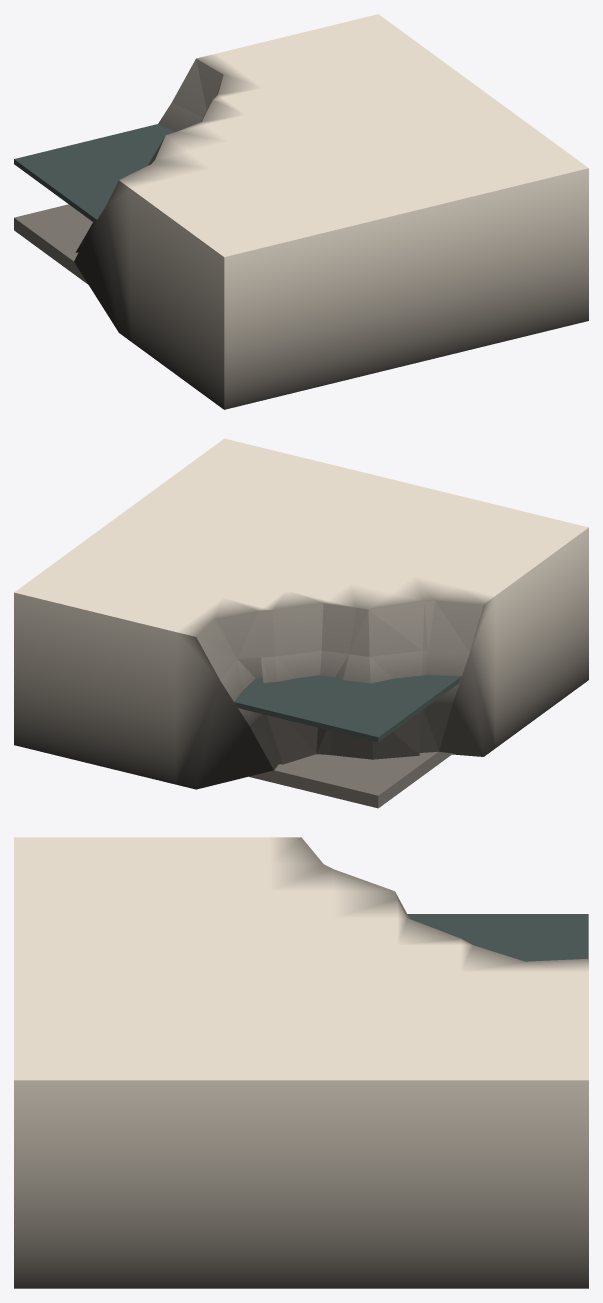
Rendered from SM_VKI_Ground_Stream_OOOX_Q00.fbx.
3 views of the same model, one above another, from view 1: azimuth 30°, elevation 25°; view 2: azimuth 150°, elevation 25°; view 3: azimuth 270°, elevation 25° (orthographic). The views are drawn at different scales.
Parts seen in each view (by area): view 1: SM_VKI_Ground_Stream_OOOX_Q00.001; view 2: SM_VKI_Ground_Stream_OOOX_Q00.001; view 3: SM_VKI_Ground_Stream_OOOX_Q00.001.
Part boxes in pixels (bbox=[...]): SM_VKI_Ground_Stream_OOOX_Q00.001: bbox=[14, 14, 588, 409]; SM_VKI_Ground_Stream_OOOX_Q00.001: bbox=[14, 438, 588, 808]; SM_VKI_Ground_Stream_OOOX_Q00.001: bbox=[14, 837, 588, 1288].
Size of the model in its own units: 1.5 by 0.6 by 1.5.
